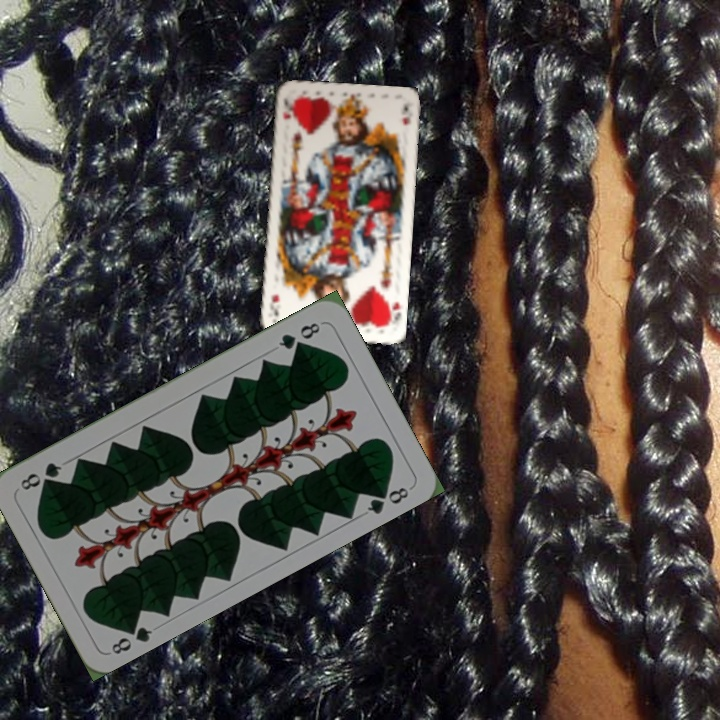G8: (107, 617, 155, 657), (274, 318, 323, 353)
HK: (382, 296, 403, 329), (278, 96, 295, 122)
